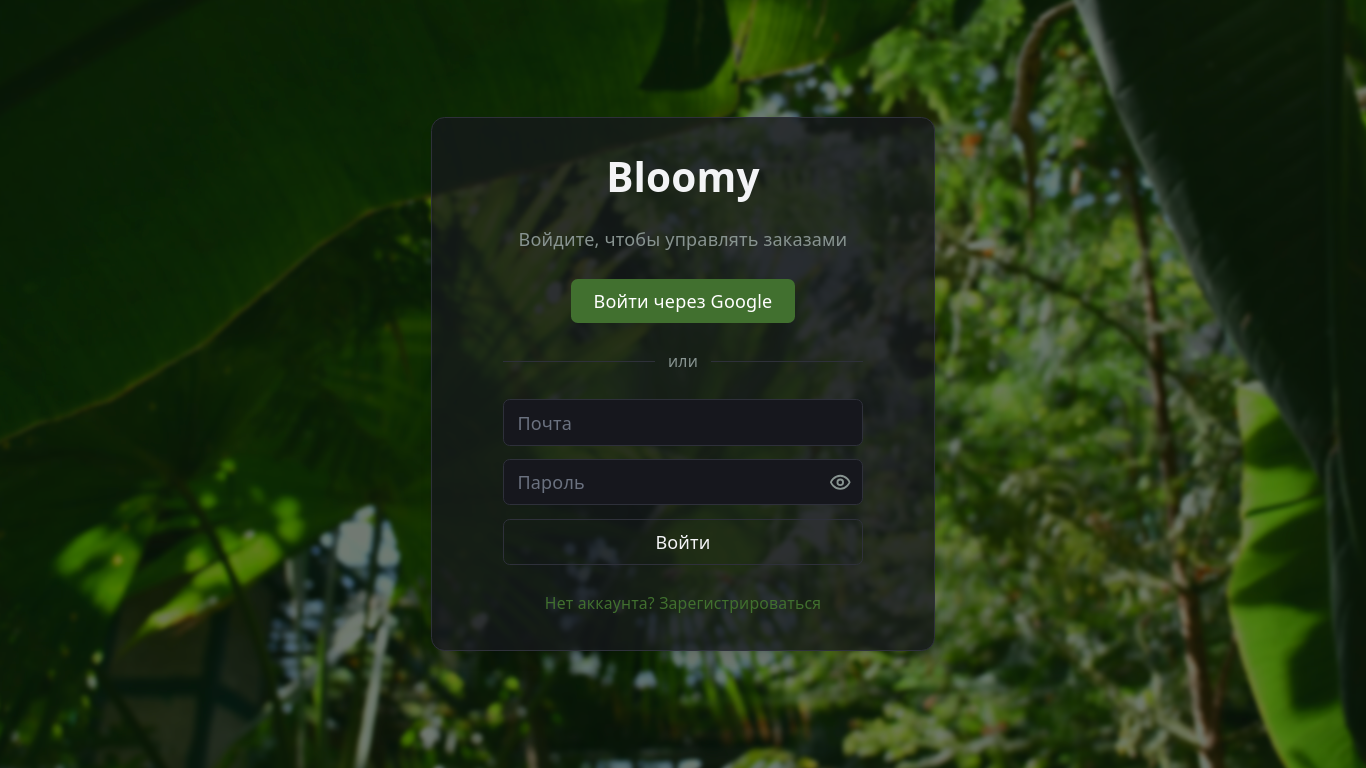
Test case: LoginPage › falls back to a generic message for an unrecognized error
Step 1. Click the button "Войти через Google" → point(683, 301), box left=571, top=279, right=795, bottom=323
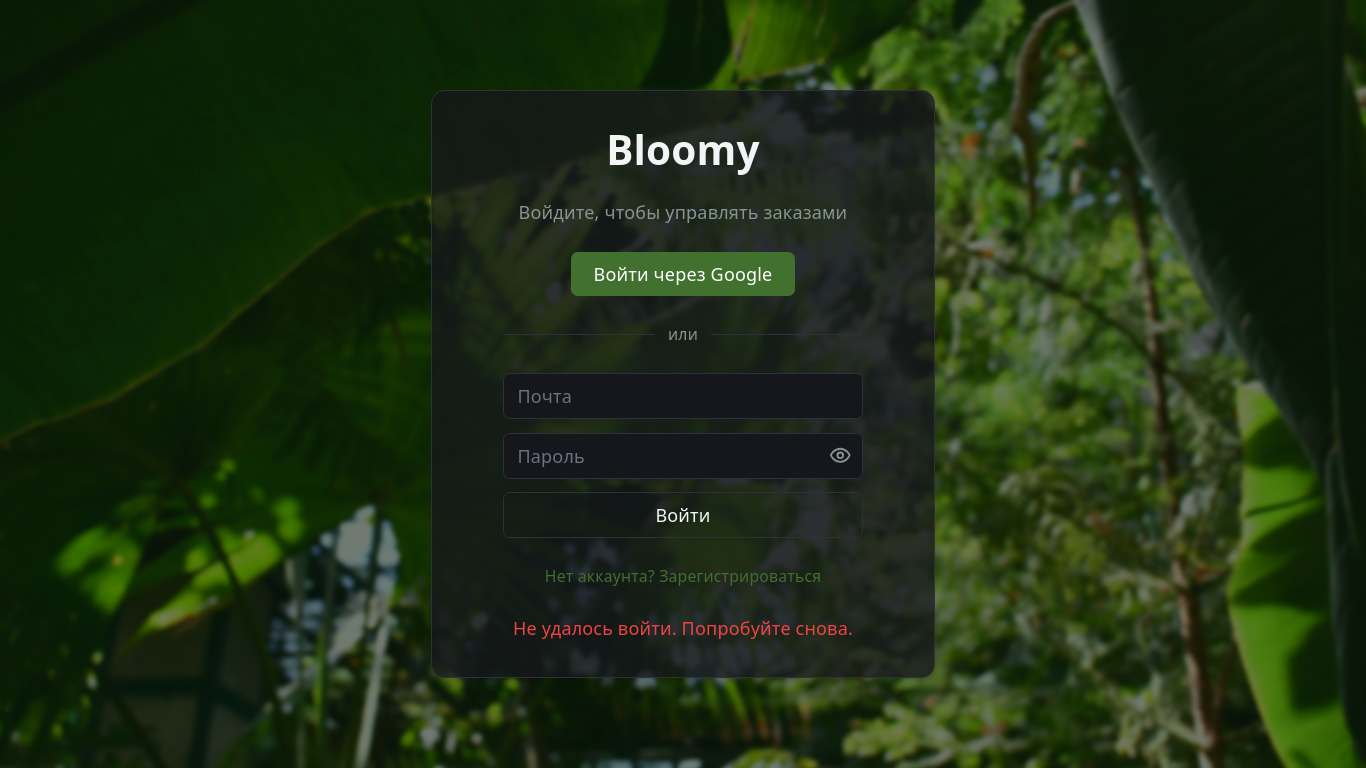
expect the message reads "Не удалось войти. Попробуйте снова.": met, box left=513, top=616, right=853, bottom=640
